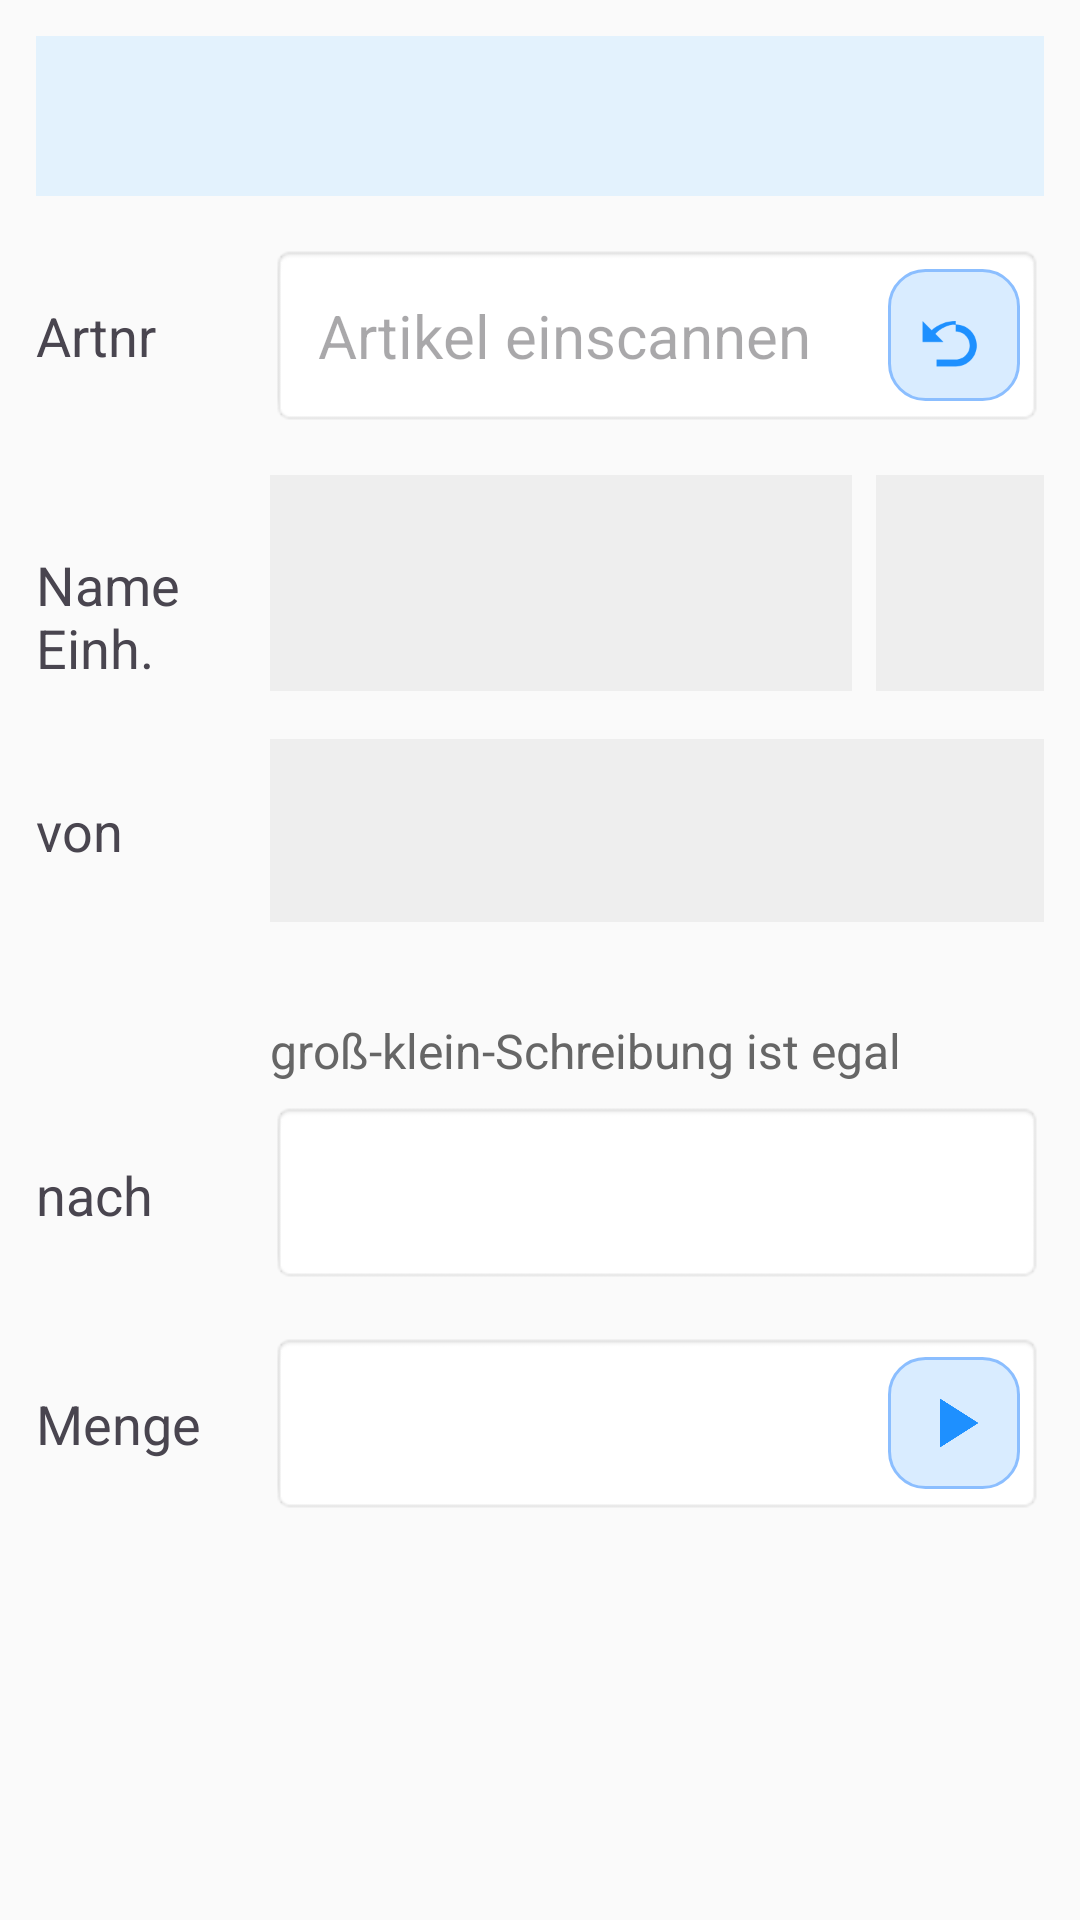

Icons on this 1080w x 1920h Android screen, each with its box as (x1,y1,x2,y2):
Neueingabe: (888,269,1020,401)
